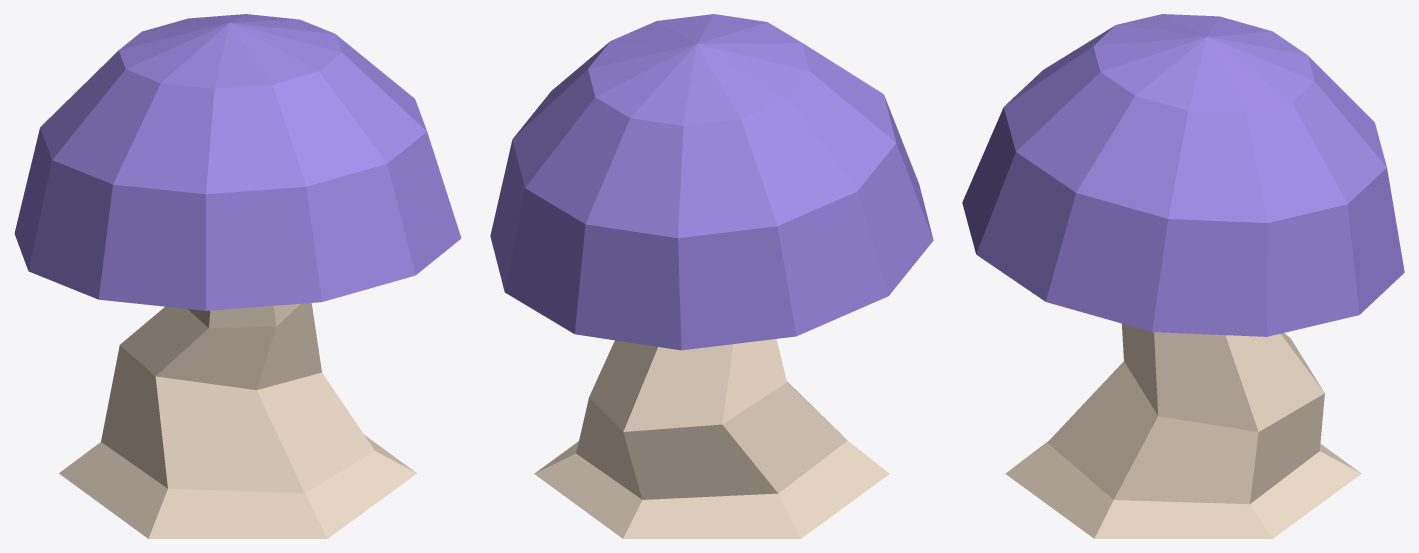
File: fiore1.glb
The picture shows the model from 3 angles, left to right: view 1: azimuth 30°, elevation 25°; view 2: azimuth 150°, elevation 25°; view 3: azimuth 270°, elevation 25°; orthographic projection.
Visible parts, largest first — view 1: Sphere; view 2: Sphere; view 3: Sphere.
Boxes of the visible parts, x1,y1,x2,y2 form: Sphere: (14,14,461,538); Sphere: (490,14,933,538); Sphere: (962,14,1404,538).
Bounding box in the file's own units: 0.2161 × 0.235 × 0.2149.
